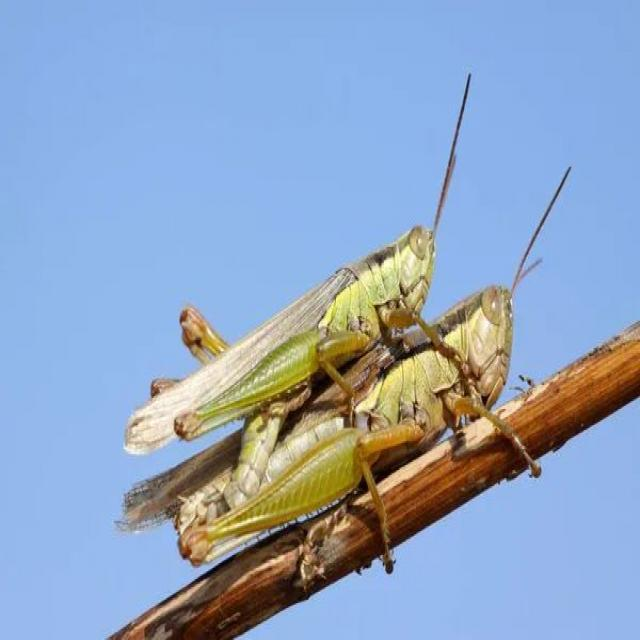ZhaMeng: (115, 255, 574, 606), (92, 190, 476, 481)
